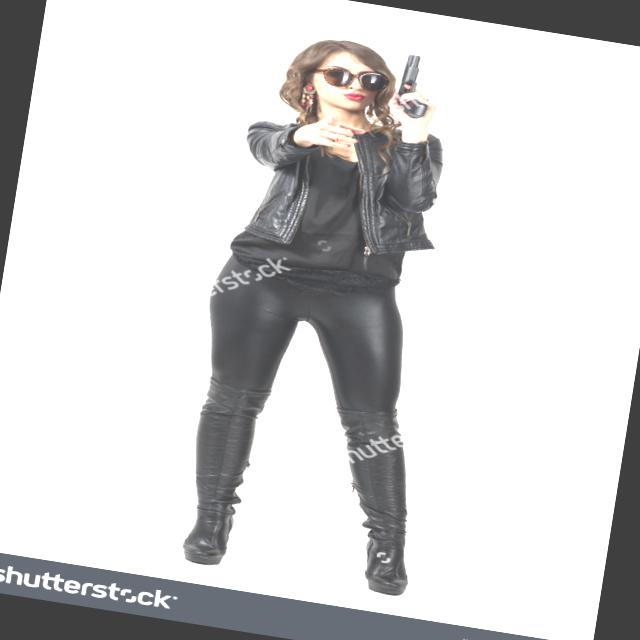handgun: (390, 50, 440, 119)
